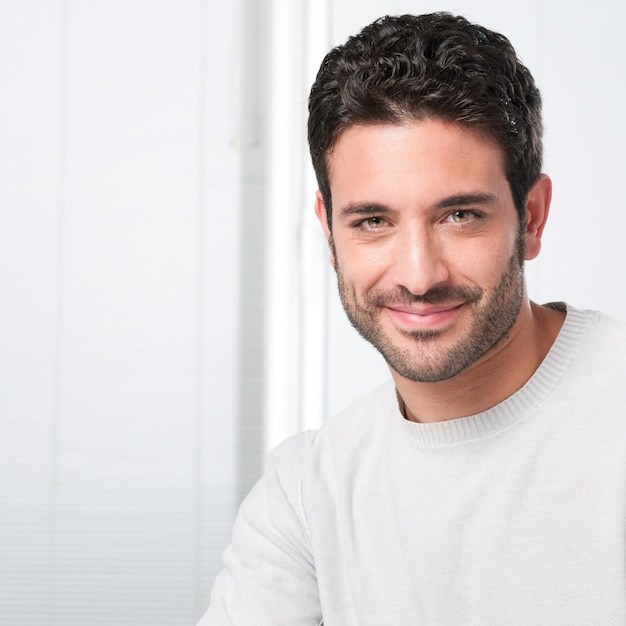young: (309, 16, 556, 380)
